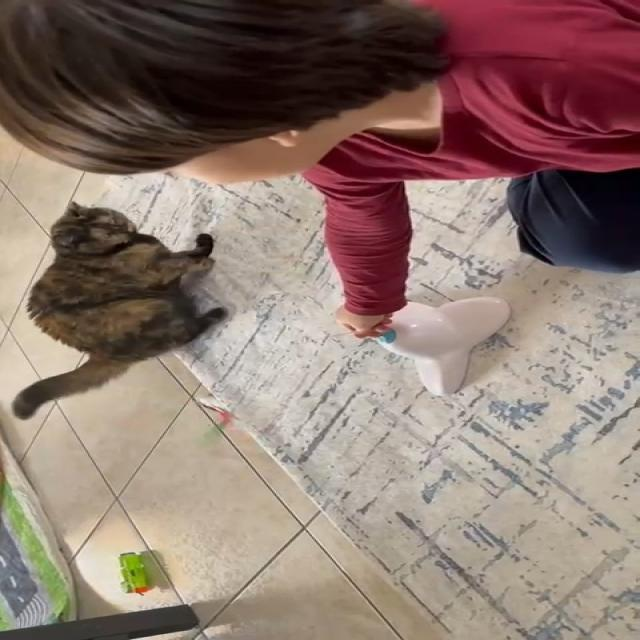authorized: (11, 200, 229, 420)
